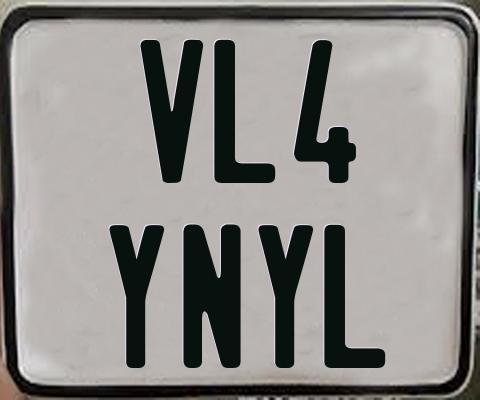4: (291, 37, 359, 182)
L: (321, 224, 388, 367), (214, 40, 279, 187)
N: (181, 222, 241, 367)
V: (137, 37, 206, 184)
Y: (257, 224, 316, 371), (108, 225, 165, 370)
